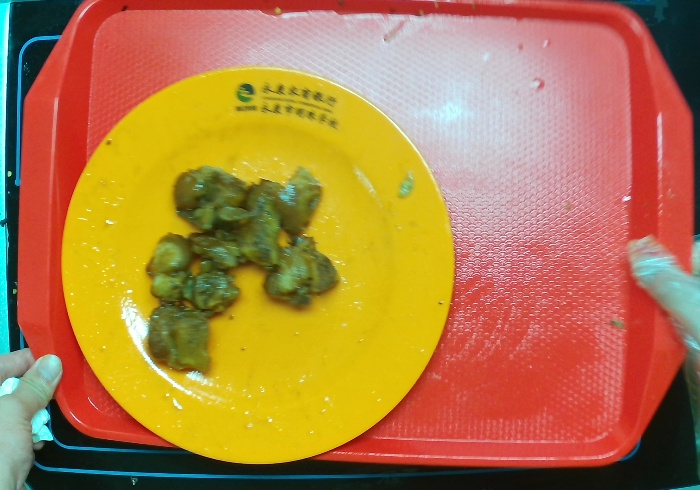YKMZ-Ju_Se_Mian_Pan: (60, 62, 459, 461)
